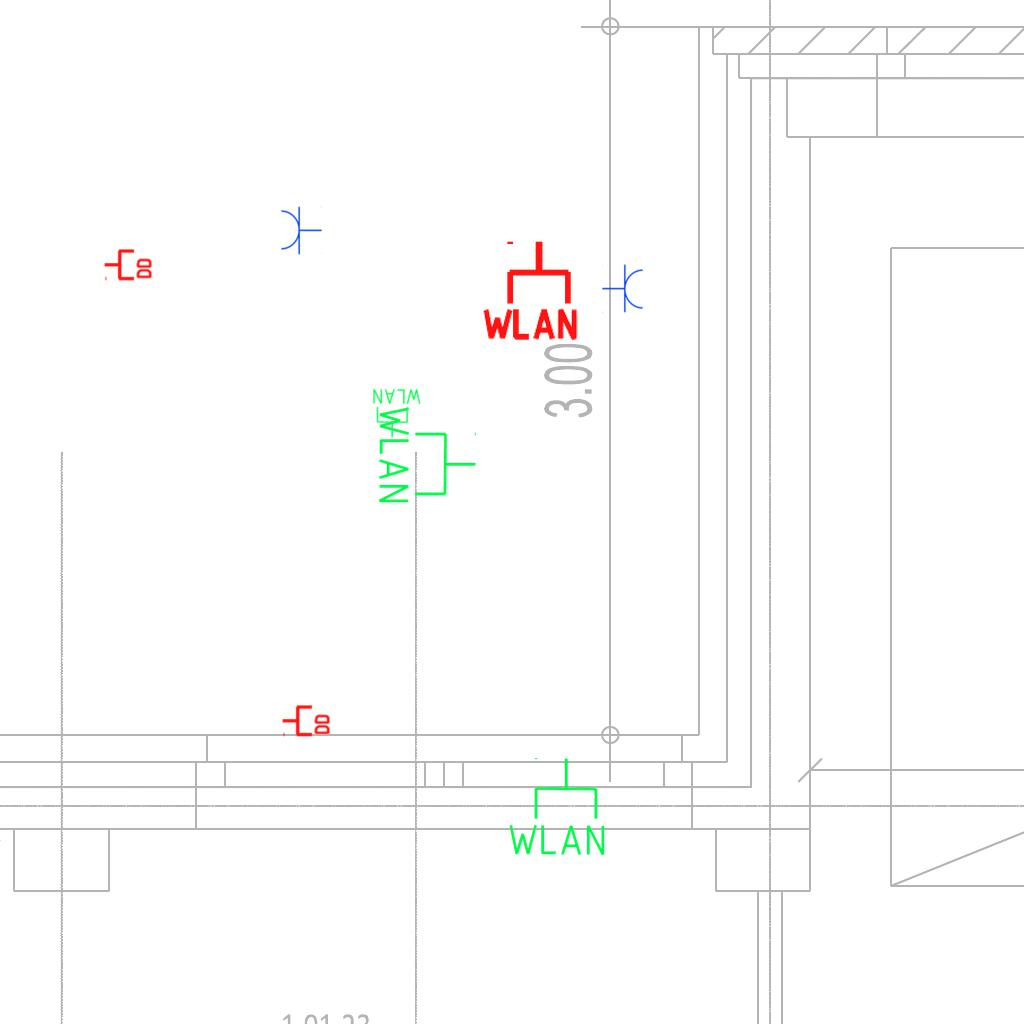Datenanschluss_zweifach: (103, 247, 154, 281), (281, 703, 332, 737)
Schukosteckdose_einfach: (602, 264, 645, 314), (279, 205, 322, 255)
WLAN: (478, 237, 582, 342), (504, 755, 609, 859), (375, 402, 479, 507), (371, 387, 423, 439)
